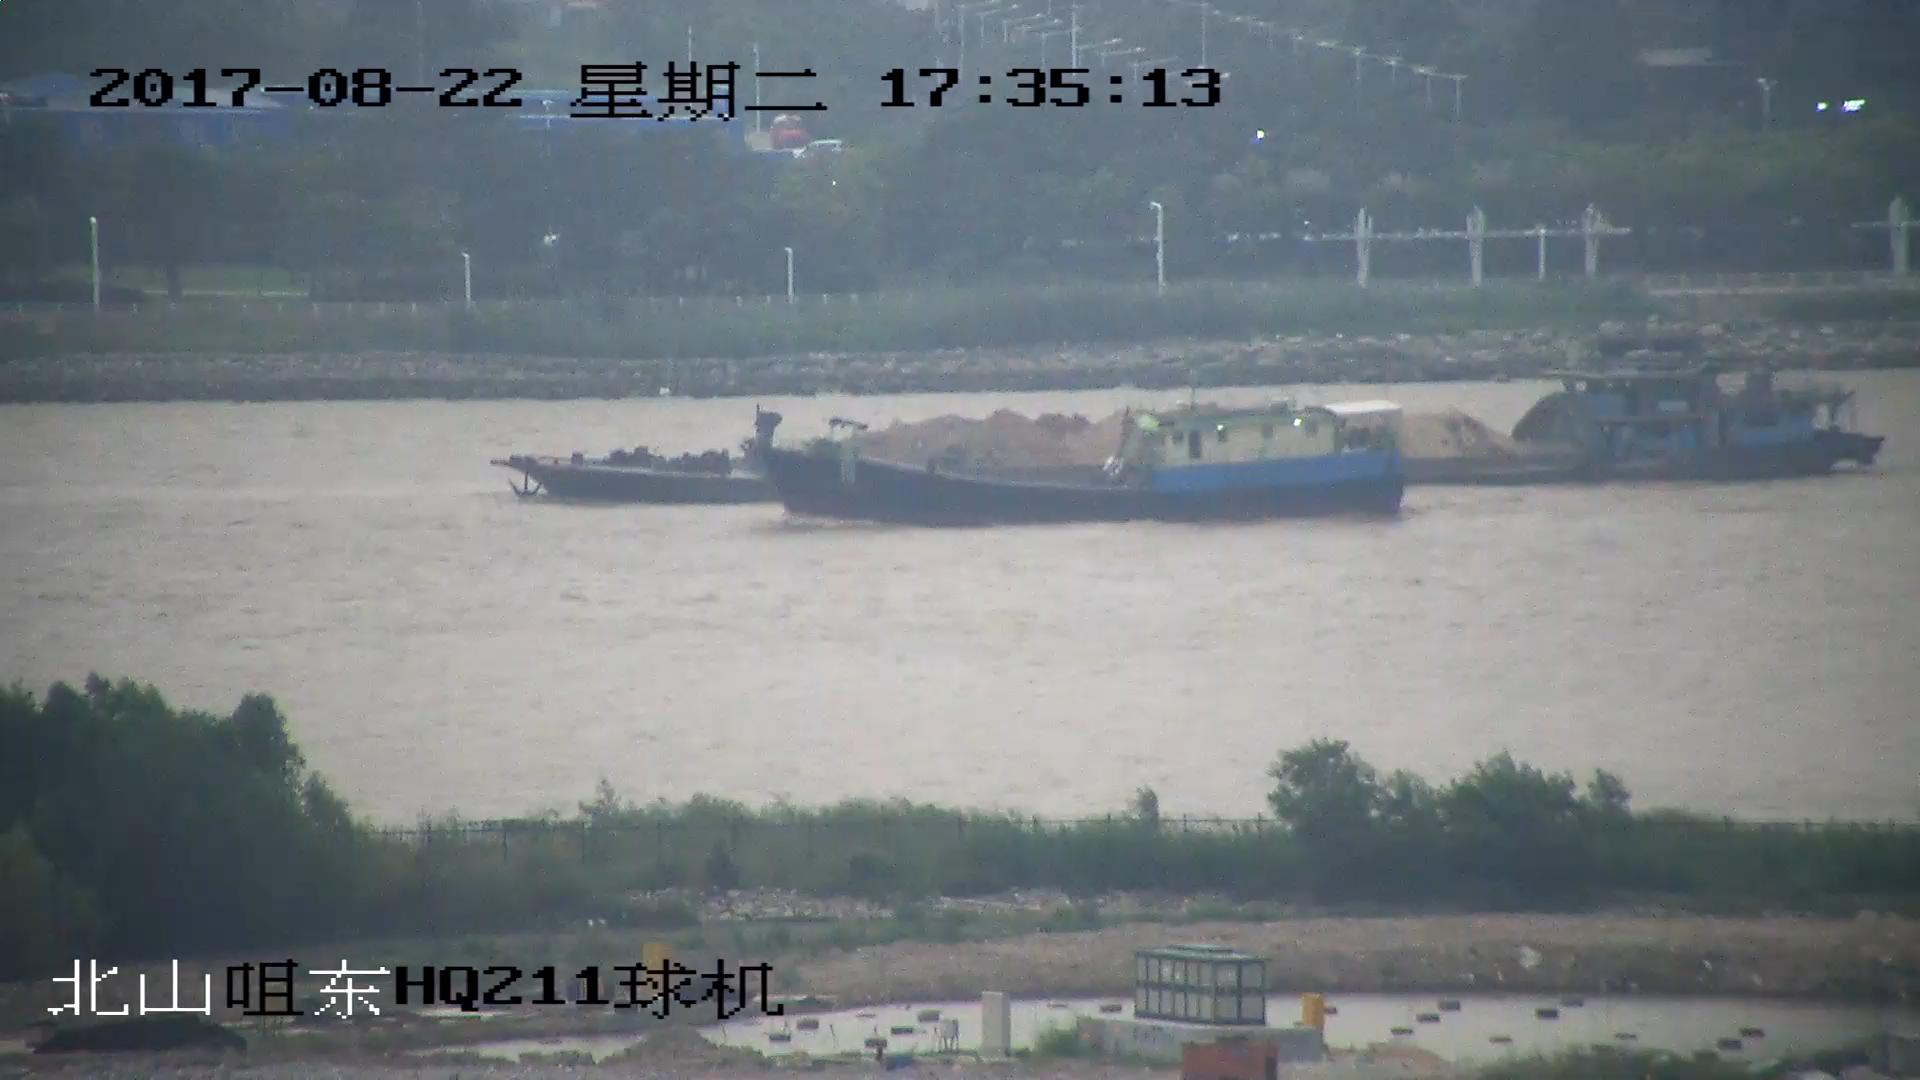fishing boat: (757, 384, 1402, 520)
ore carrier: (499, 356, 1880, 505)
